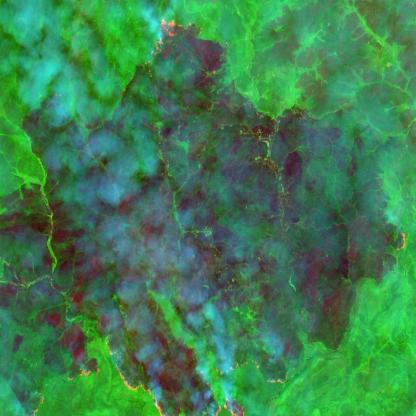fire: (32, 331, 287, 416), (137, 12, 194, 64), (391, 229, 408, 254)
